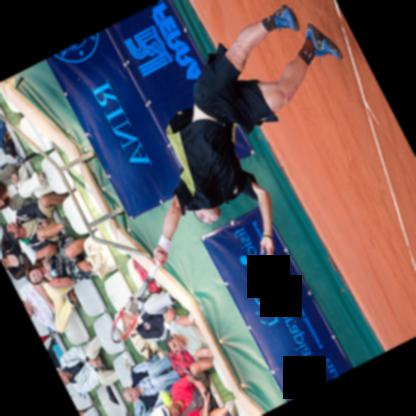handbag: (81, 234, 118, 277), (0, 118, 22, 157)
